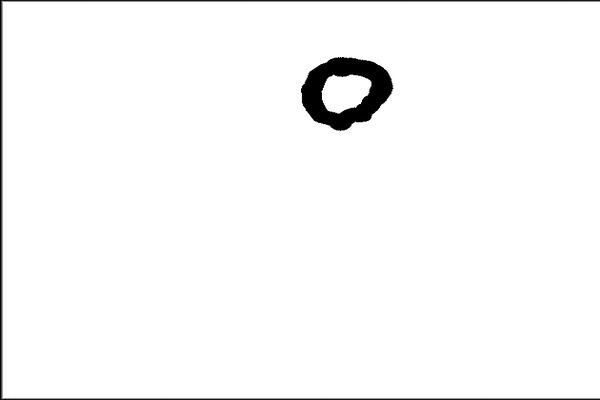O: (282, 46, 407, 140)
